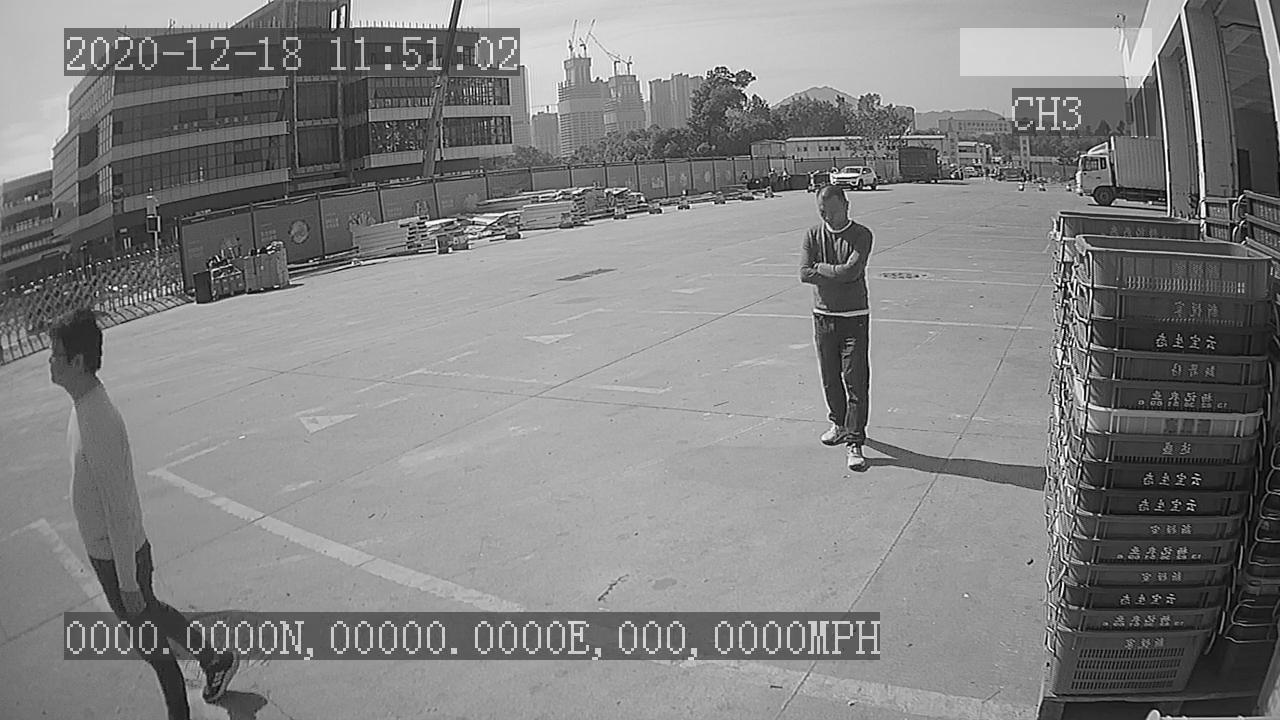person: (795, 183, 877, 476)
